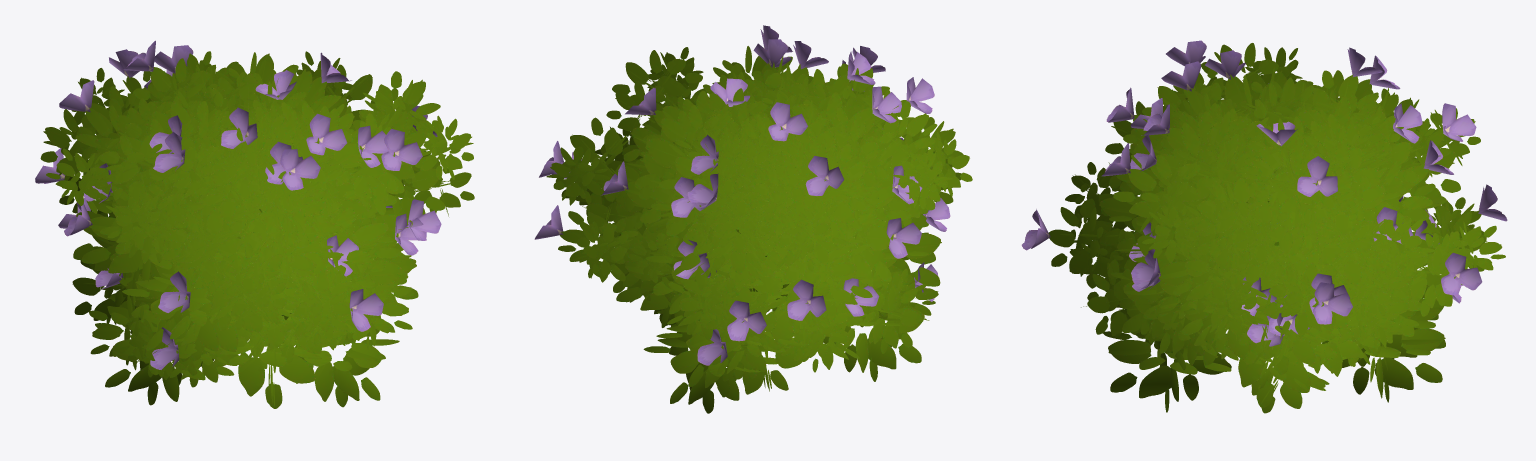
File: qn-Bush_Common_Flowers.glb
3 views of the same model, side by side, from view 1: azimuth 30°, elevation 25°; view 2: azimuth 150°, elevation 25°; view 3: azimuth 270°, elevation 25° (orthographic). The views are drawn at different scales.
Parts seen in each view (by area): view 1: Bush_Common_Flowers; view 2: Bush_Common_Flowers; view 3: Bush_Common_Flowers.
Boxes of the visible parts, left/top/right/bottom form: Bush_Common_Flowers: left=35, top=40, right=474, bottom=408; Bush_Common_Flowers: left=534, top=25, right=972, bottom=413; Bush_Common_Flowers: left=1021, top=40, right=1507, bottom=413.
Size of the model in its own units: 1.91 by 1.58 by 1.97.
Materials: 2 (2 with a texture image).
